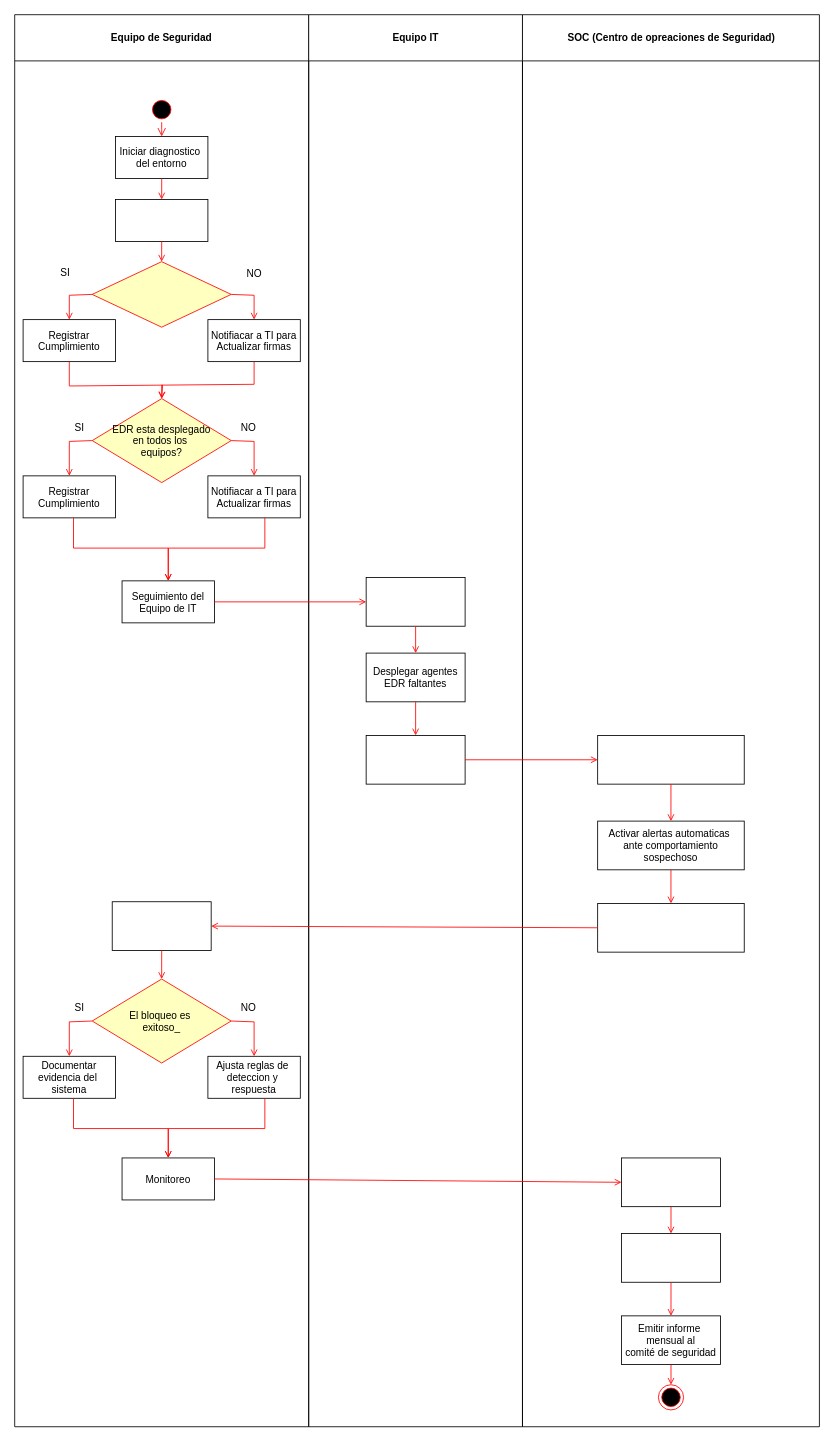
This 834x1441 diagram has some shape labels left out. The shapes that lost their labels are listed below. From the top down, each one's centre as x and y in pixels, then its label:
the point at 161,220: Auditar estado del Antivirus (AV)
the point at 161,294: El AV esta actualizado?
the point at 415,601: Actualizar firmas del AV en endpoints
the point at 415,759: Conectar EDR con SIEM institucional
the point at 670,759: Configurar reglas de deteccion especificas de ransomware
the point at 161,925: Ejecutar simulacro controlado de ransonware
the point at 670,927: Habilitar al aislamiento automatico de equipos infectados
the point at 670,1182: Monitorear eventos en tiempo real
the point at 670,1257: Analizar métricas de eficacia del sistema
